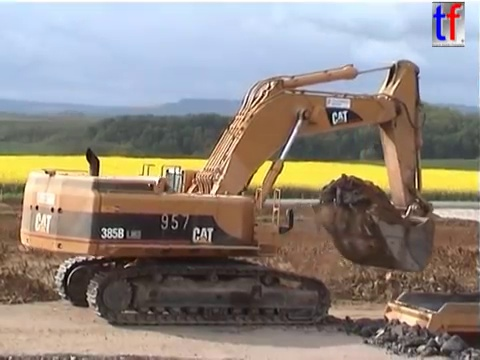excavator: (15, 55, 440, 329)
truck: (381, 287, 480, 360)
